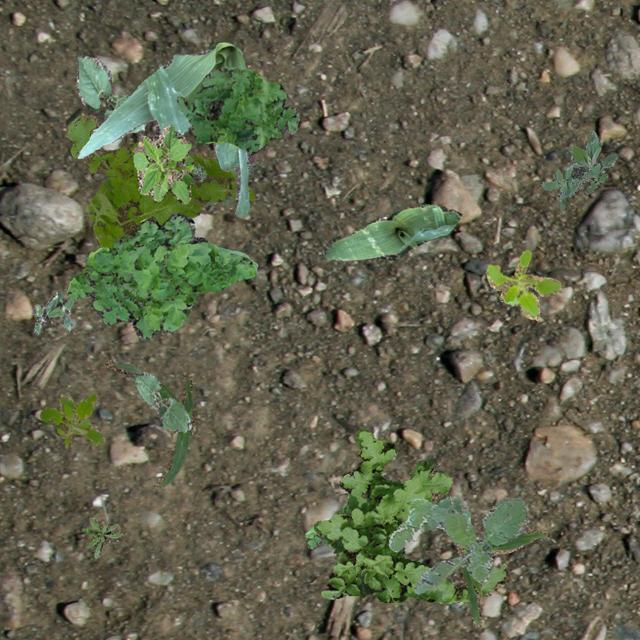crop: (75, 41, 248, 216), (104, 358, 195, 488), (456, 528, 550, 626), (322, 202, 461, 260), (74, 52, 144, 132), (132, 371, 190, 432)
weed: (312, 428, 508, 602), (65, 106, 256, 248), (66, 212, 256, 338), (388, 494, 526, 592), (175, 65, 298, 154), (540, 130, 618, 208), (484, 248, 560, 318), (132, 124, 194, 202), (38, 392, 104, 446), (190, 150, 254, 204), (304, 502, 348, 548), (81, 516, 126, 558), (32, 290, 72, 334)
